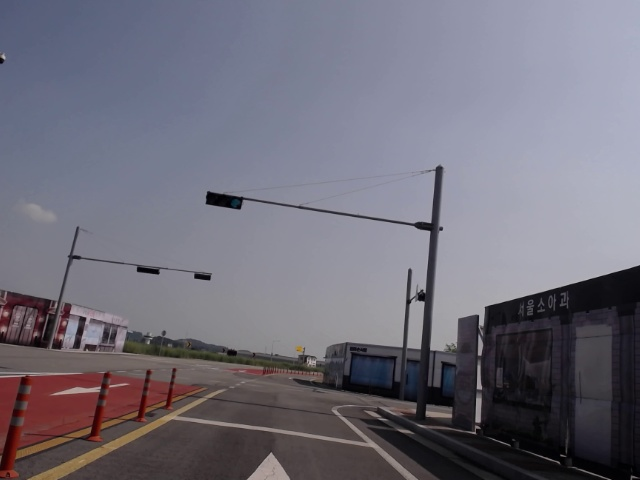green_3: (205, 189, 243, 210)
